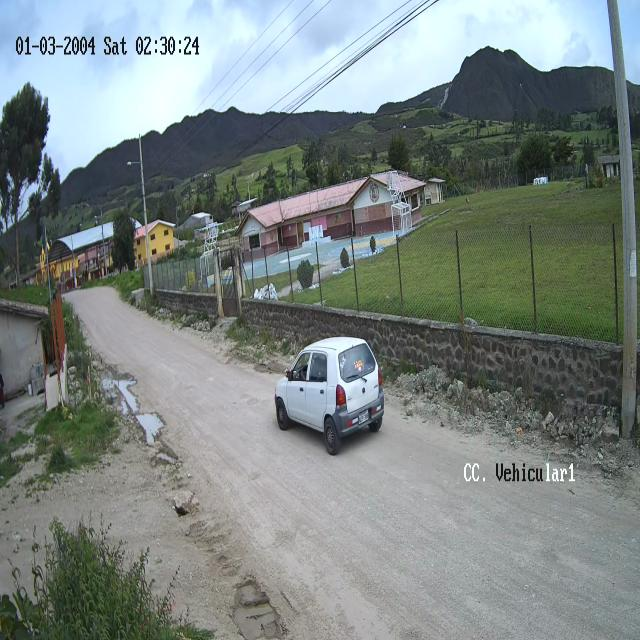SED: (274, 337, 384, 455)
